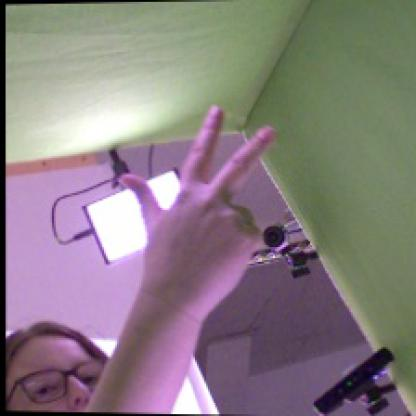Hand: (119, 106, 276, 311)
